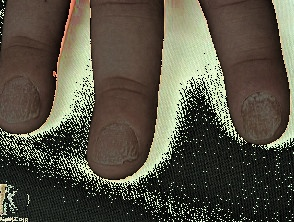Nail_psoriasis: (89, 112, 150, 176), (239, 87, 286, 144), (0, 75, 42, 124)
